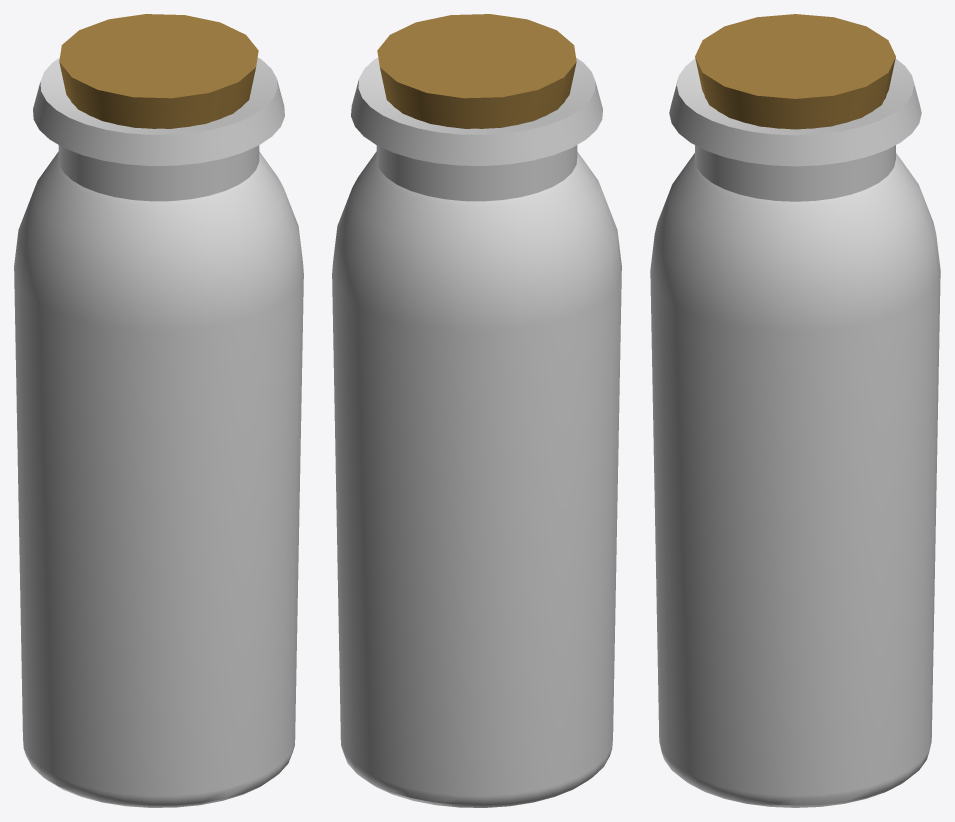
Rendered from BigBottle.fbx.
3 renders of one model, left to right at view 1: azimuth 30°, elevation 25°; view 2: azimuth 150°, elevation 25°; view 3: azimuth 270°, elevation 25°, orthographic.
Parts seen in each view (by area): view 1: BigBottle, Cap; view 2: BigBottle, Cap; view 3: BigBottle, Cap.
Part boxes in pixels (<box>): BigBottle: <box>14,57,303,807</box>; Cap: <box>59,14,258,128</box>; BigBottle: <box>332,57,621,807</box>; Cap: <box>377,14,576,128</box>; BigBottle: <box>650,59,940,807</box>; Cap: <box>695,14,895,129</box>.
Bounding box in the file's own units: 2.13 × 5.66 × 2.13.
